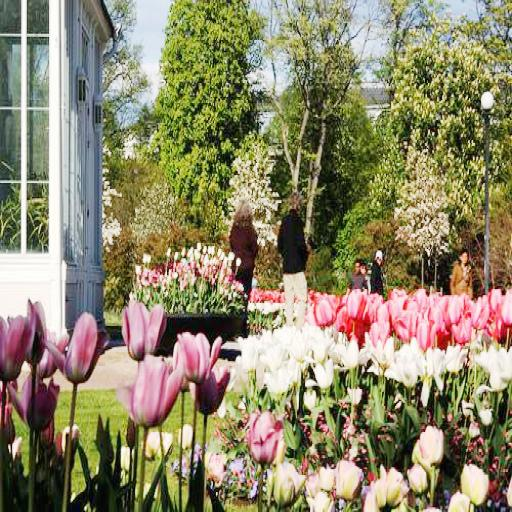tulip: (115, 357, 181, 423), (54, 310, 104, 394), (121, 294, 161, 363), (180, 329, 222, 383), (244, 408, 280, 468), (1, 310, 29, 383), (192, 366, 226, 420), (267, 464, 306, 506), (383, 466, 410, 510), (336, 456, 361, 500), (462, 464, 488, 500), (418, 426, 440, 464), (412, 315, 435, 346), (347, 289, 369, 320), (378, 303, 393, 344), (315, 294, 335, 323), (209, 452, 225, 486), (409, 466, 427, 492), (446, 298, 465, 322), (313, 297, 331, 321), (489, 291, 504, 315), (446, 295, 456, 320)
